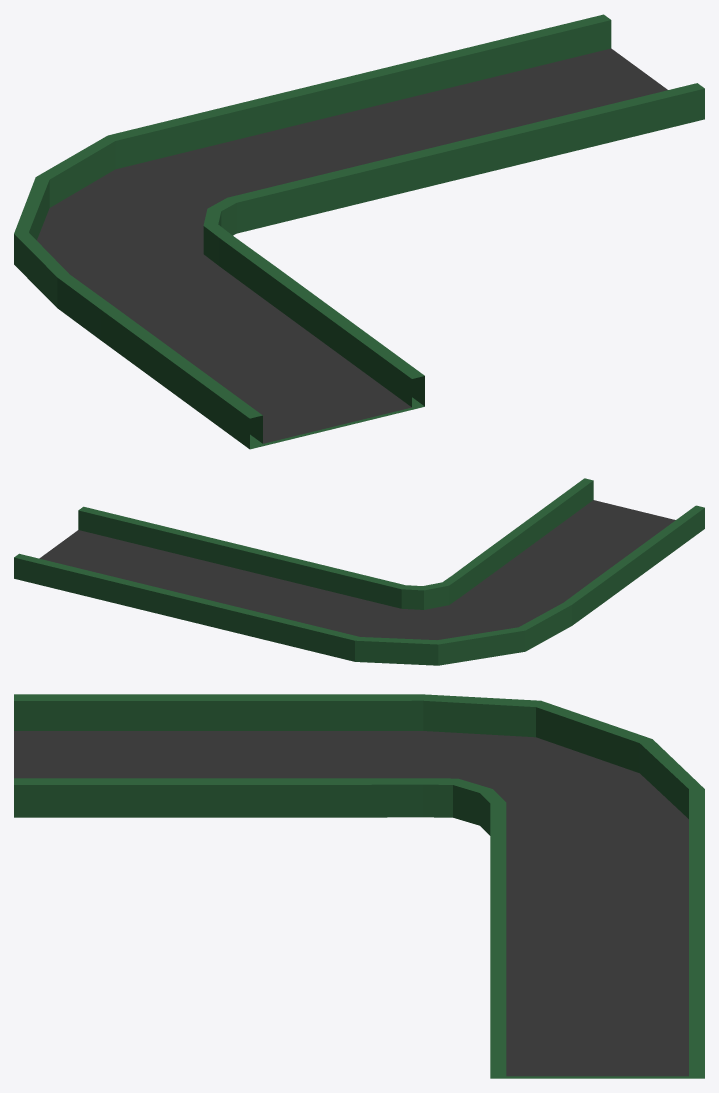
File: conveerg.fbx
3 views of the same model, one above another, from view 1: azimuth 30°, elevation 25°; view 2: azimuth 150°, elevation 25°; view 3: azimuth 270°, elevation 25° (orthographic). The views are drawn at different scales.
Visible parts, largest first — view 1: conveerg; view 2: conveerg; view 3: conveerg.
Boxes of the visible parts, left/top/right/bottom form: conveerg: left=14, top=14, right=704, bottom=449; conveerg: left=14, top=478, right=704, bottom=665; conveerg: left=14, top=694, right=704, bottom=1078.
Size of the model in its own units: 112 by 4.83 by 92.56.
2 materials, 2 textured.
